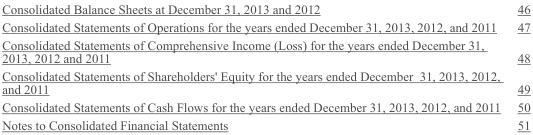table: (1, 1, 529, 131)
table column: (1, 1, 508, 131), (508, 1, 529, 131)
table row: (1, 35, 529, 66), (1, 66, 529, 97), (1, 17, 529, 35), (1, 97, 529, 115), (1, 1, 529, 17), (1, 115, 529, 131)
